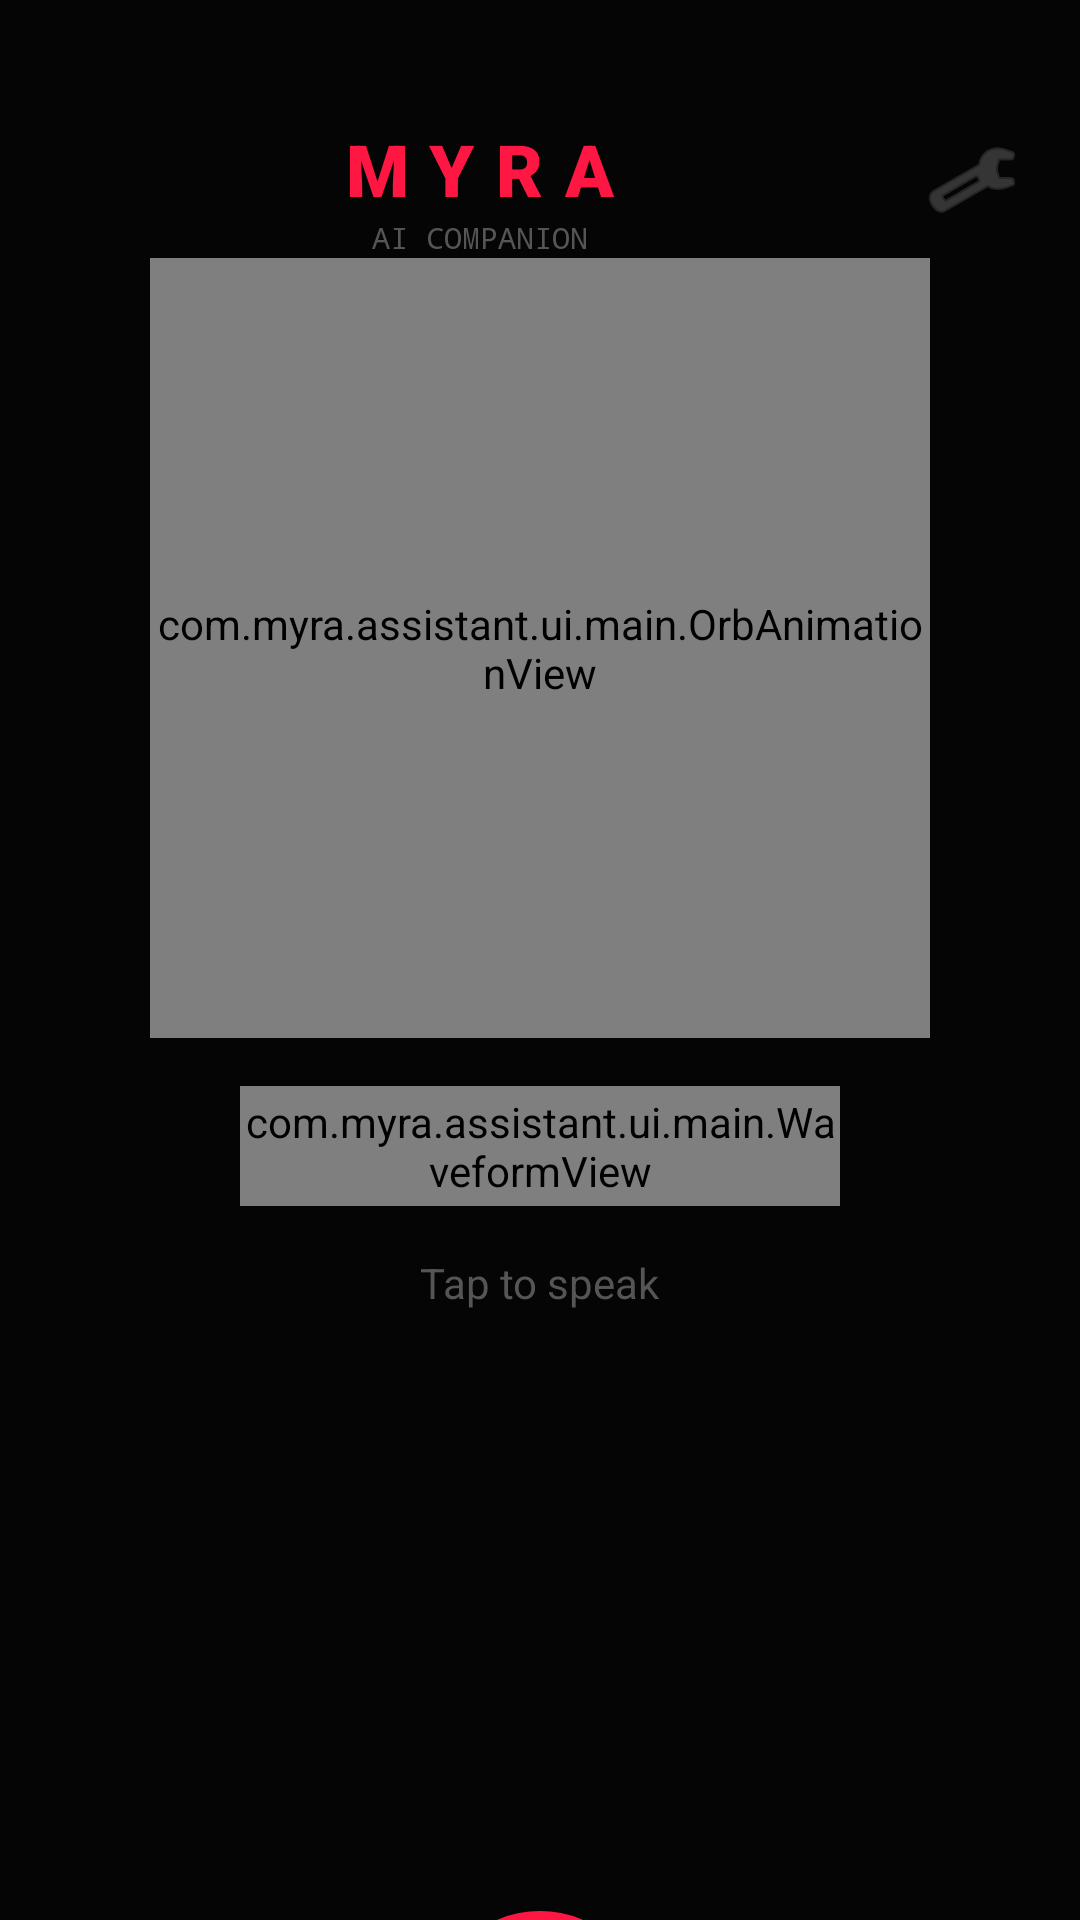

Screen size 1080*1920. Icon name, then its box in pixels as (x1, y1, x2, y2):
Settings: (929, 148, 1015, 212)
